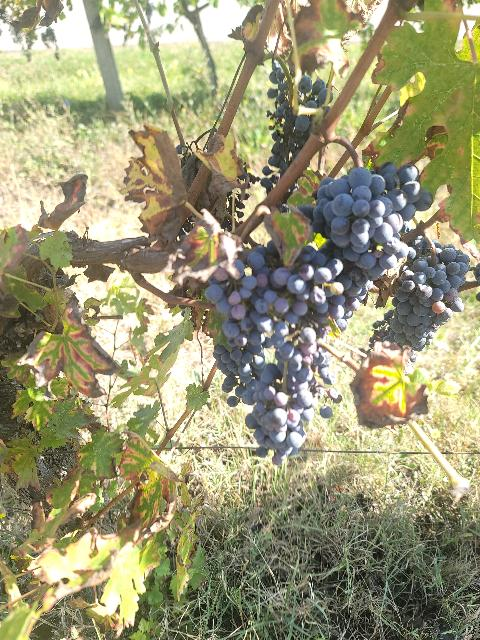grapes: (299, 162, 432, 279), (206, 242, 360, 324), (370, 242, 470, 356), (243, 364, 325, 465), (214, 320, 265, 406)
